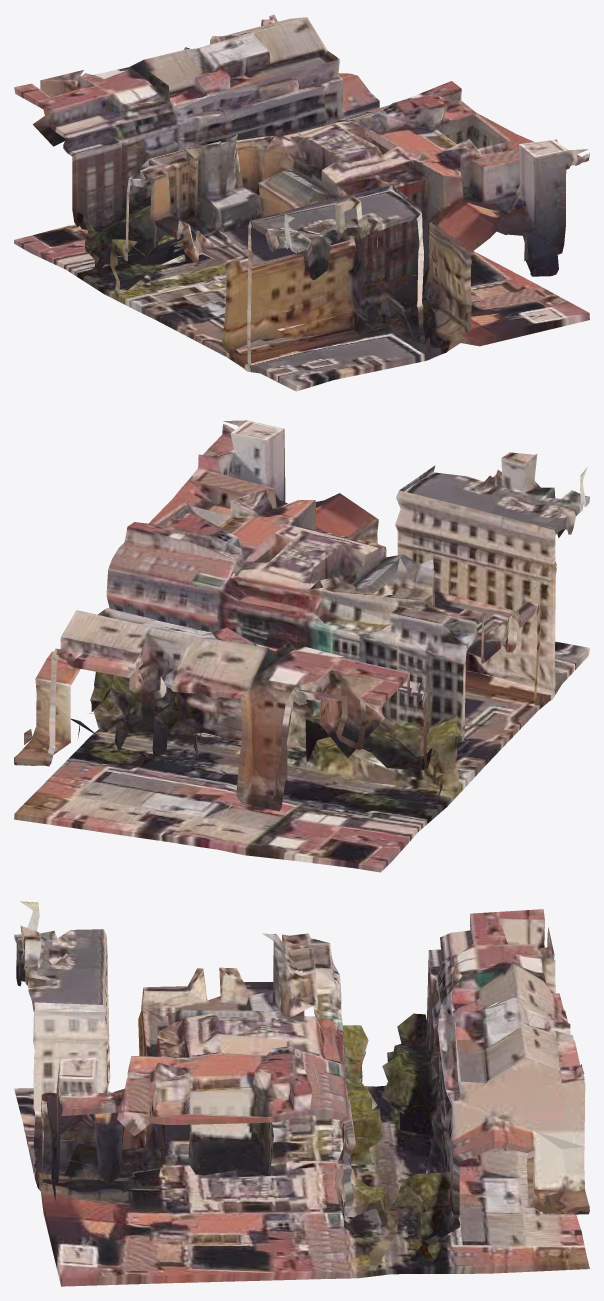
3 views of the same model, one above another, from view 1: azimuth 30°, elevation 25°; view 2: azimuth 150°, elevation 25°; view 3: azimuth 270°, elevation 25° (orthographic). The views are drawn at different scales.
Visible parts, largest first — view 1: Mesh_0; view 2: Mesh_0; view 3: Mesh_0.
Boxes of the visible parts, box(x1,y1,x2,y2) form: Mesh_0: box(14, 14, 589, 391); Mesh_0: box(14, 420, 589, 872); Mesh_0: box(14, 901, 589, 1286).
Size of the model in its own units: 66.58 by 35.41 by 82.67.
1 material, 1 textured.
